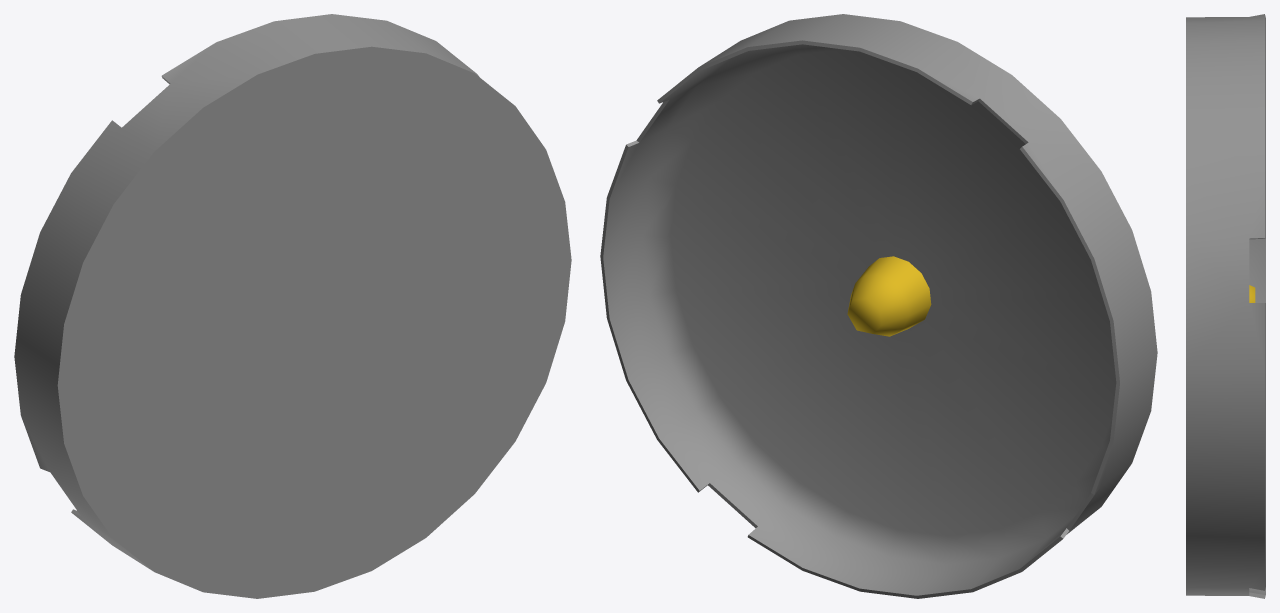
Rendered from HWheelA.FBX.
The picture shows the model from 3 angles, left to right: view 1: azimuth 30°, elevation 25°; view 2: azimuth 150°, elevation 25°; view 3: azimuth 270°, elevation 25°; orthographic projection. The views are drawn at different scales.
Visible parts, largest first — view 1: HWheelA; view 2: HWheelA; view 3: HWheelA.
Part boxes in pixels (<box>): HWheelA: <box>14,14,571,598</box>; HWheelA: <box>600,14,1157,598</box>; HWheelA: <box>1186,14,1265,598</box>.
Bounding box in the file's own units: 2.19 × 2.19 × 0.2992.
